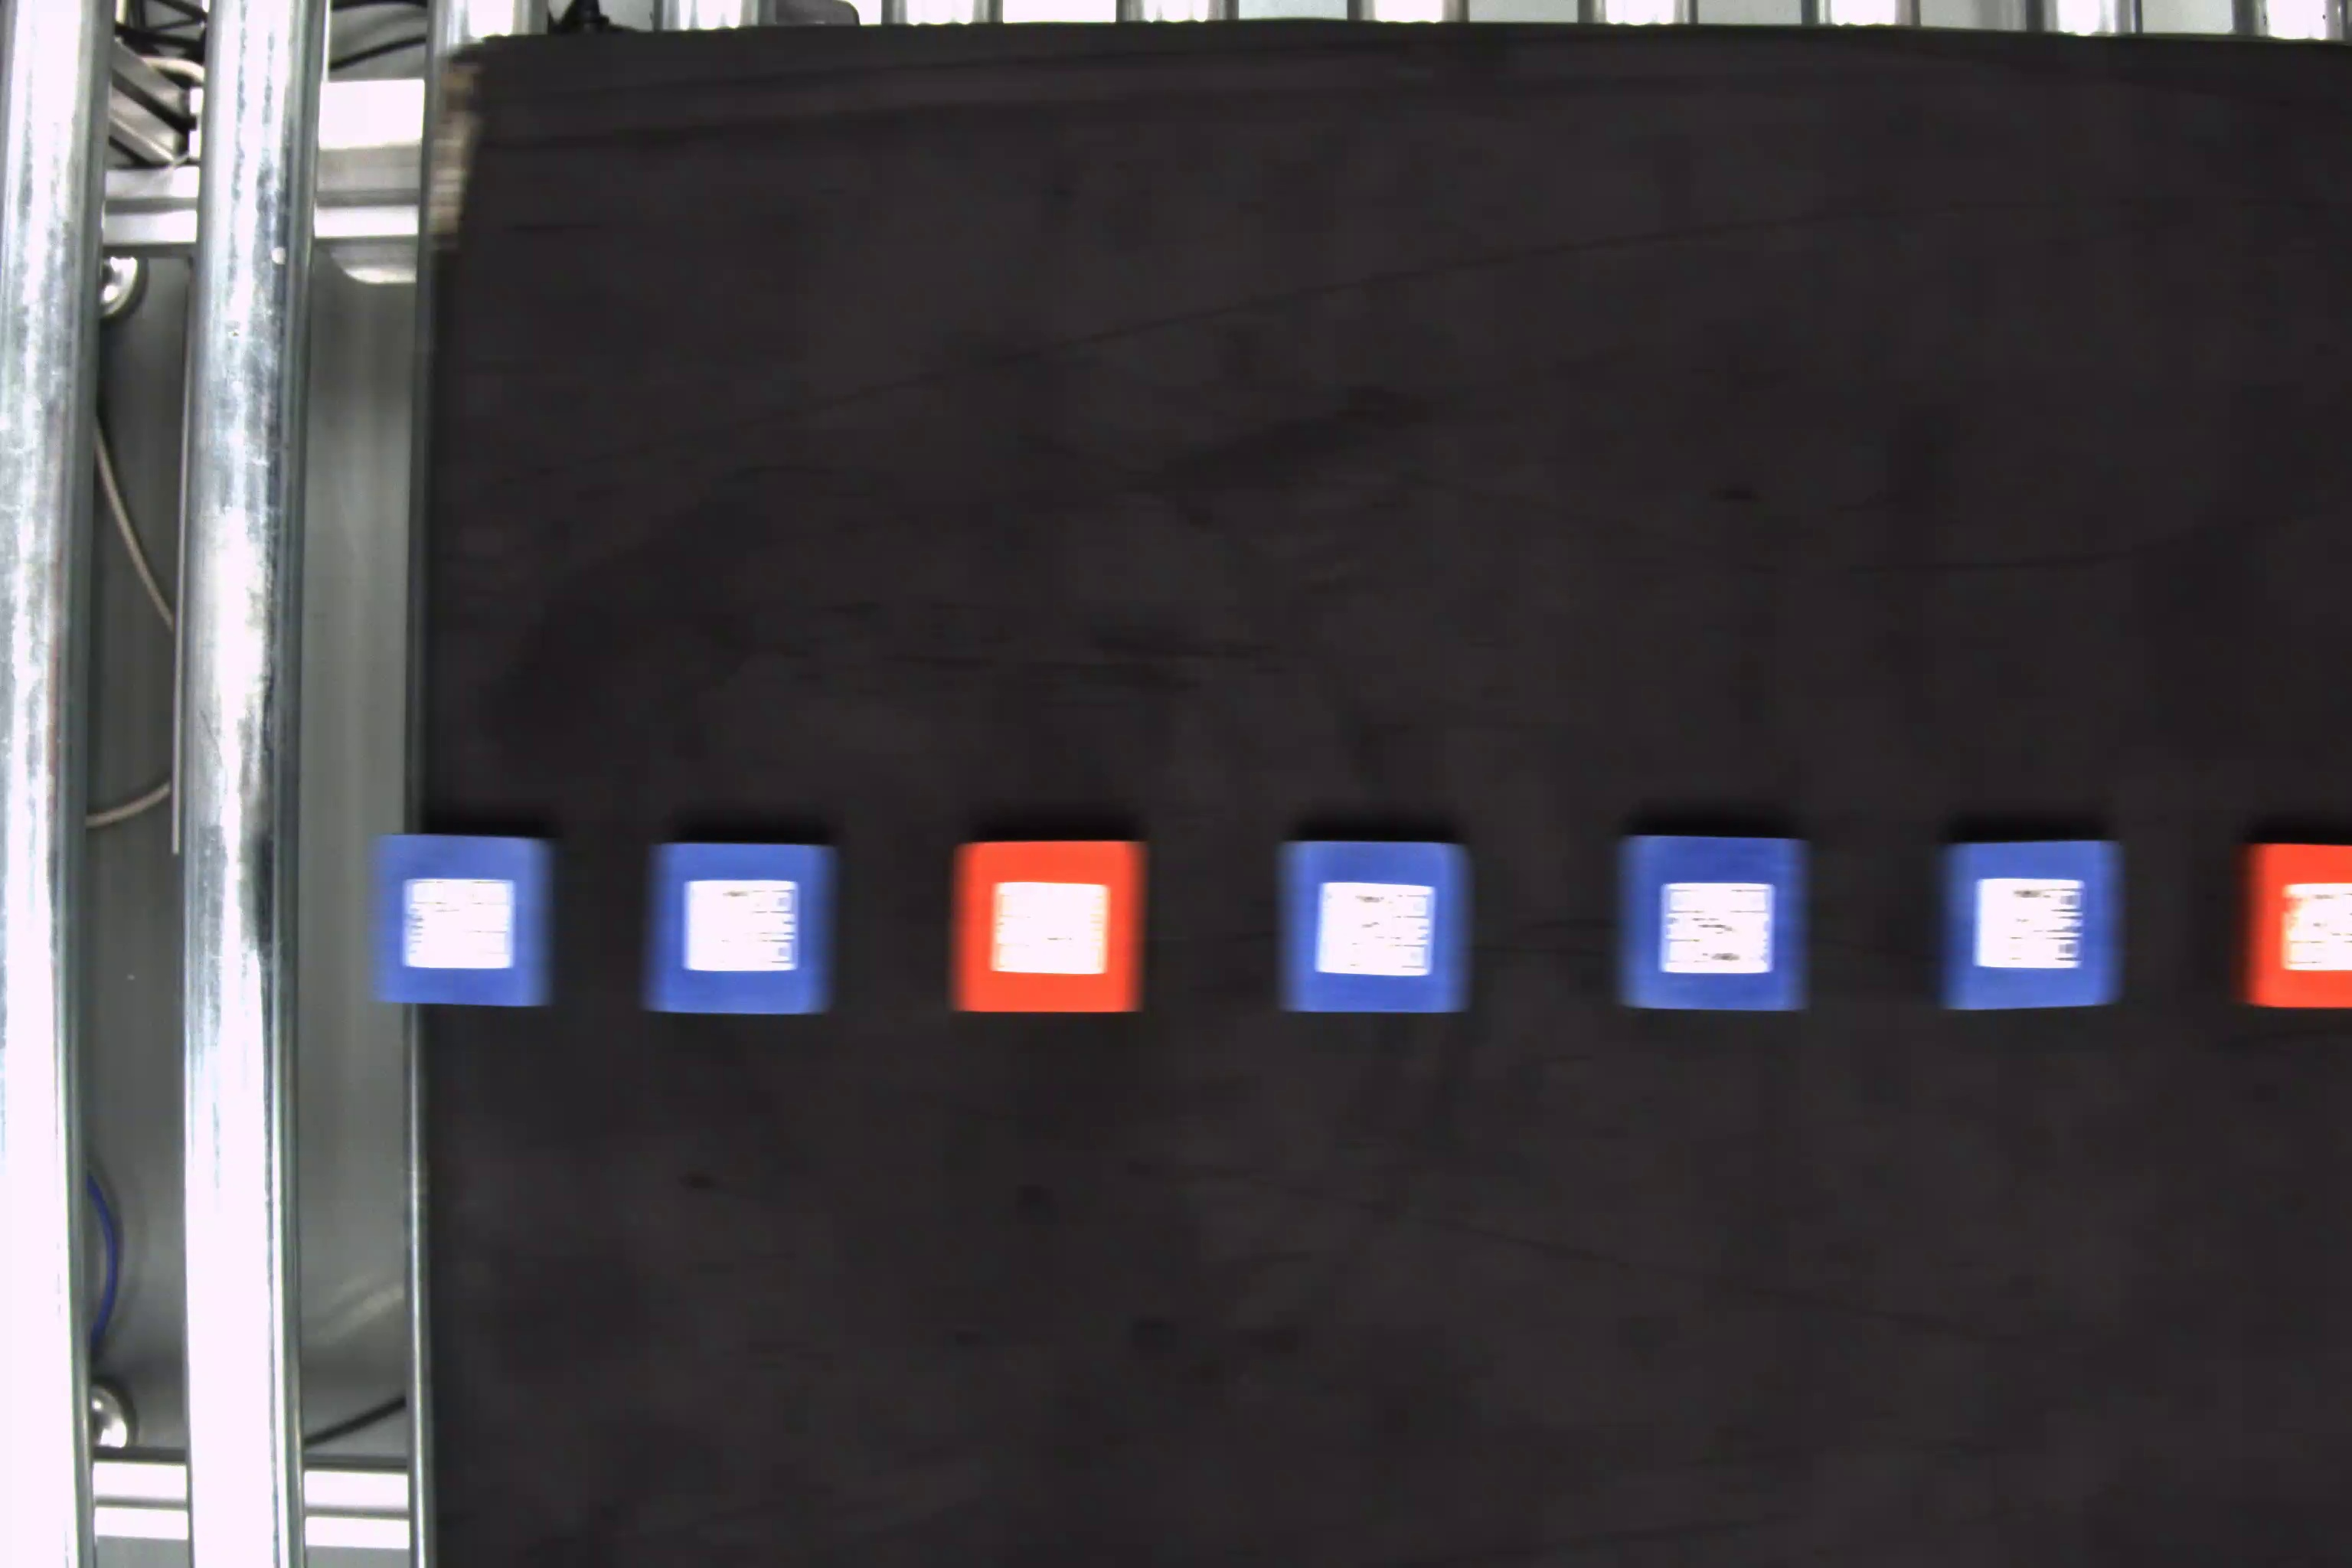wood: (1613, 831, 1816, 1015), (1274, 836, 1475, 1018), (644, 835, 840, 1015), (948, 840, 1144, 1018), (374, 828, 558, 1006), (1934, 836, 2123, 1008), (2235, 840, 2352, 1010)
